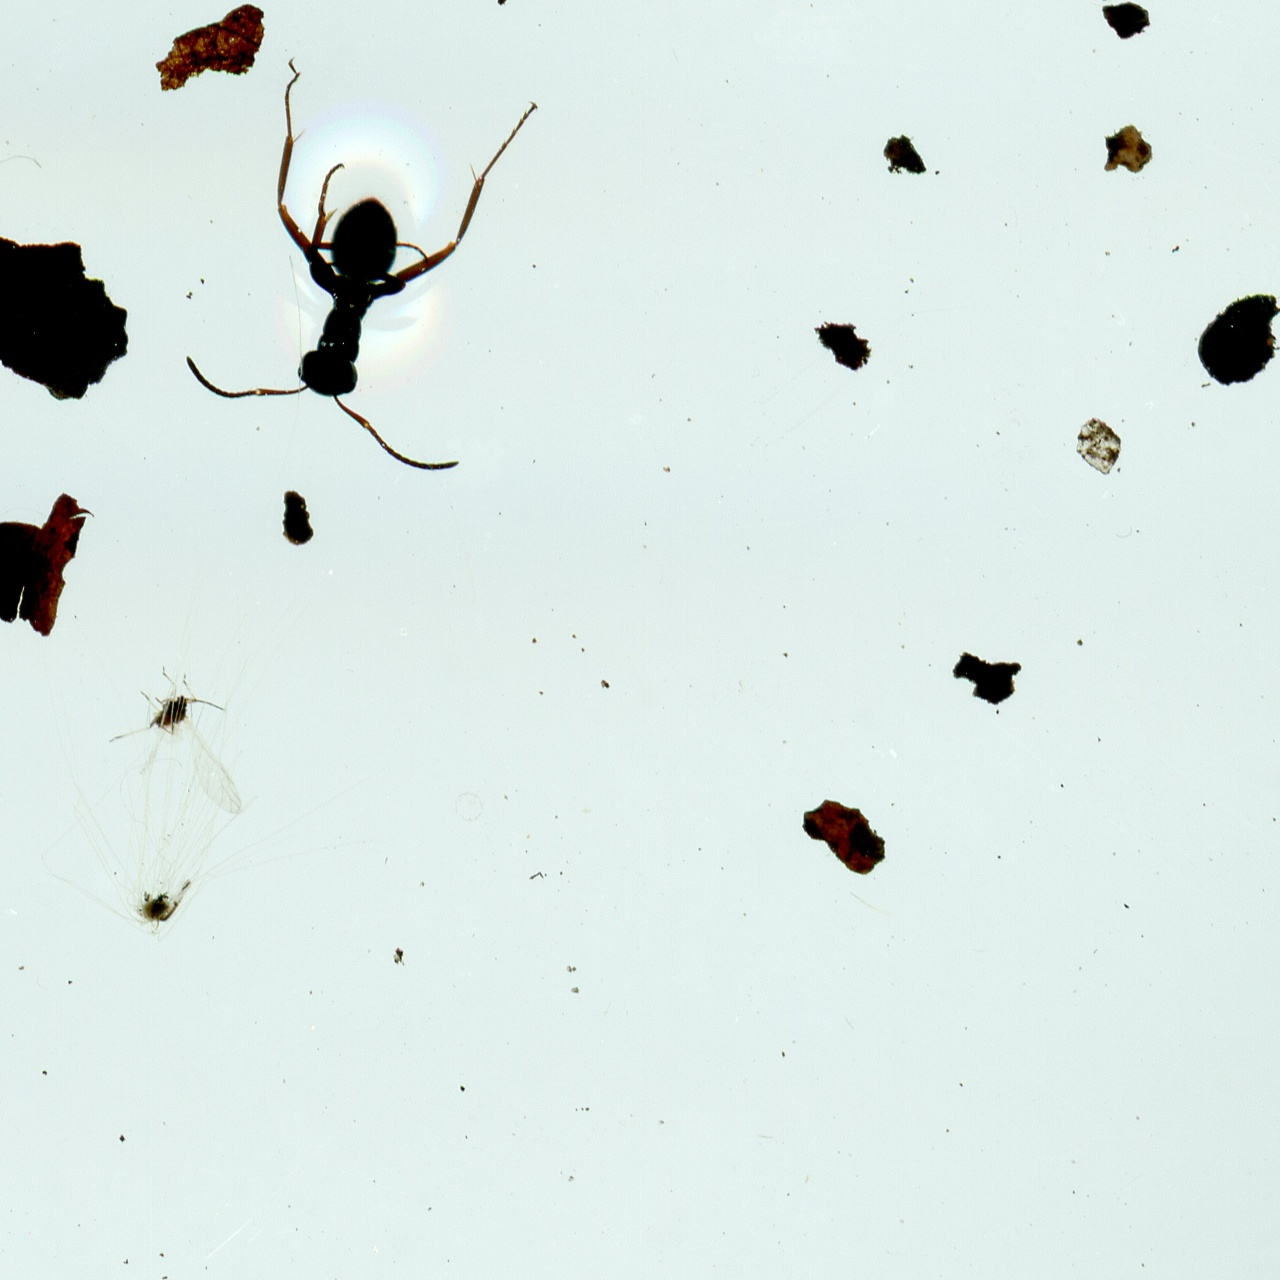arthropod: (175, 50, 550, 496), (104, 656, 251, 828)
